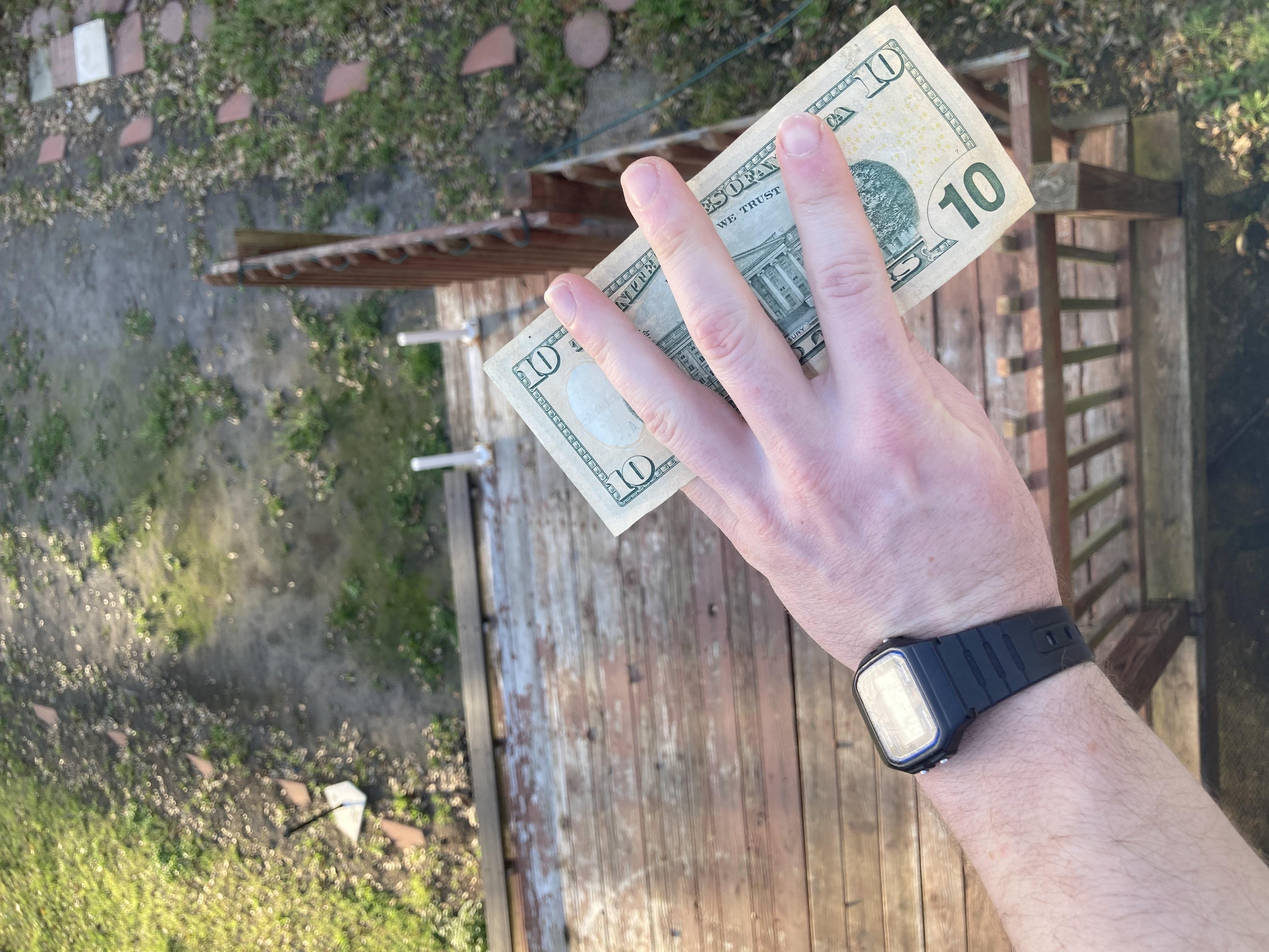ten-back: (547, 361, 1265, 779)
